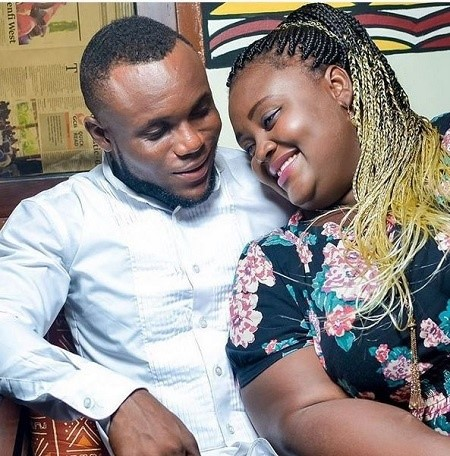face_no_mask: (227, 3, 399, 213), (76, 16, 222, 201)
